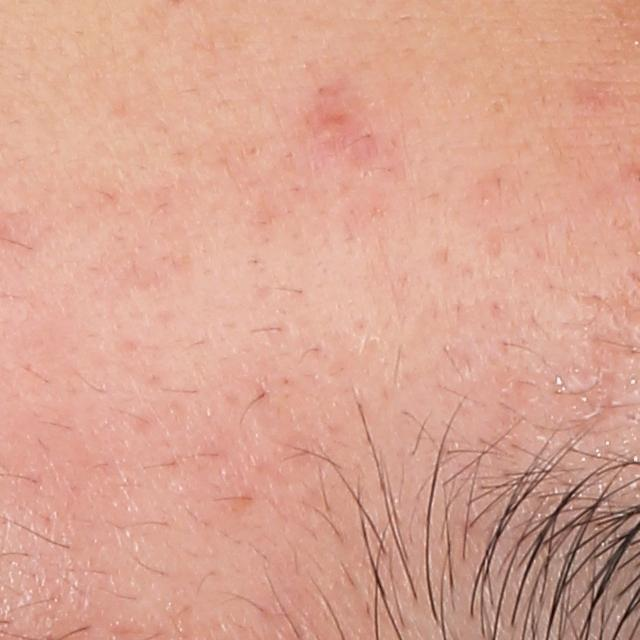comedo: (490, 97, 507, 115)
